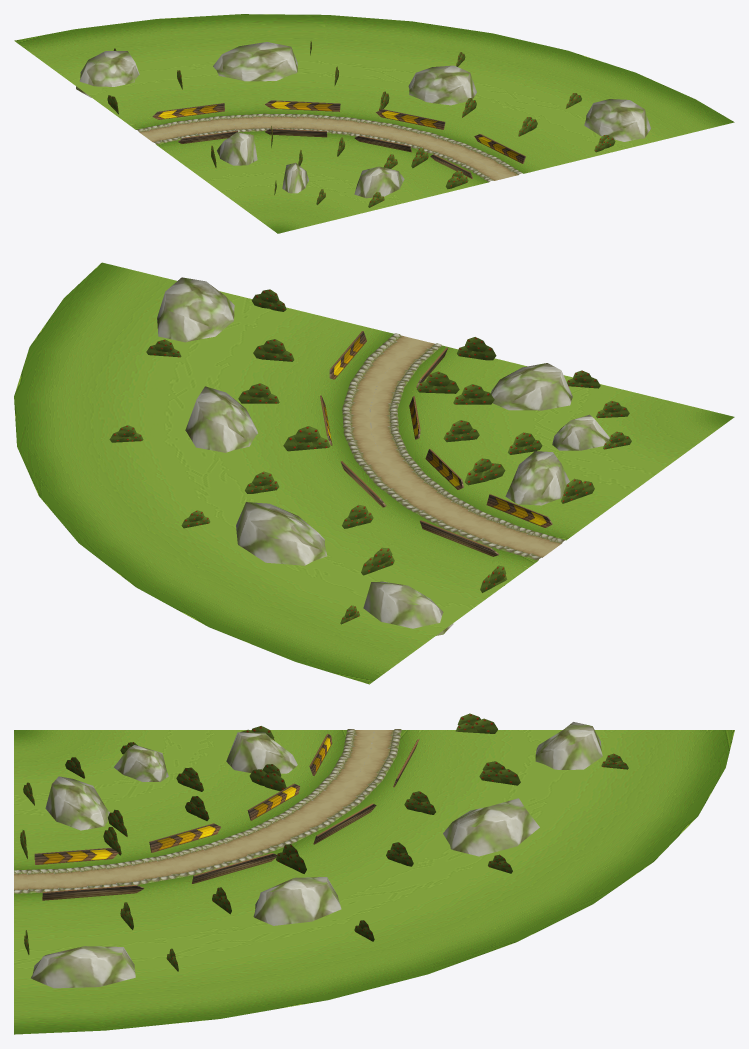
The model's file is ForestRoad02_LeftCurve.FBX.
3 views of the same model, one above another, from view 1: azimuth 30°, elevation 25°; view 2: azimuth 150°, elevation 25°; view 3: azimuth 270°, elevation 25° (orthographic). The views are drawn at different scales.
Visible parts, largest first — view 1: Road, Stone (×7), Fence (×7); view 2: Road, Stone (×7), Fence (×2), Bush (×2); view 3: Road, Stone (×7), Fence (×5), Bush (×3).
Part boxes in pixels (<box>): Road: <box>14,14,734,233</box>; Stone (×7): <box>76,42,650,198</box>; Fence (×7): <box>152,100,525,163</box>; Road: <box>14,262,734,684</box>; Stone (×7): <box>157,277,609,635</box>; Fence (×2): <box>420,494,552,556</box>; Bush (×2): <box>283,426,505,485</box>; Road: <box>14,729,734,1034</box>; Stone (×7): <box>31,722,602,988</box>; Fence (×5): <box>34,783,300,900</box>; Bush (×3): <box>249,713,520,791</box>.
Size of the model in its own units: 10000 by 651 by 10000.
